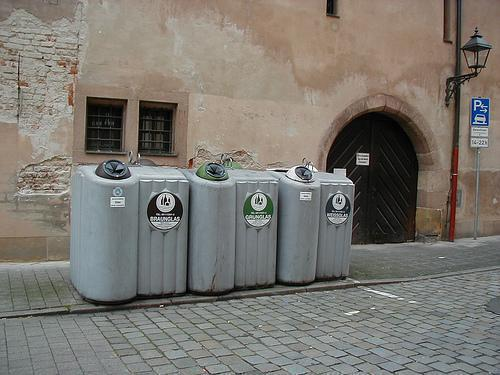Bote de Basura: (195, 161, 276, 291), (274, 164, 354, 283), (70, 165, 135, 302), (133, 162, 187, 295)
